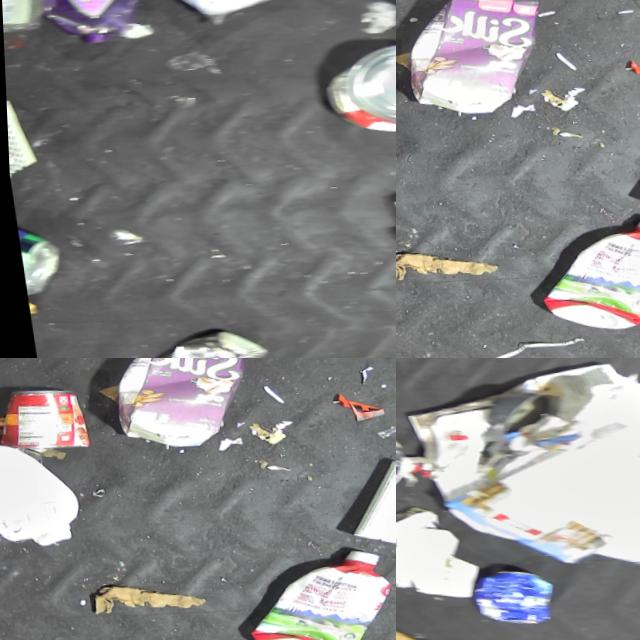can: (314, 21, 396, 138), (0, 376, 101, 457), (464, 558, 555, 627), (145, 317, 269, 358), (481, 380, 563, 436)
milk_jug: (0, 421, 87, 560)
